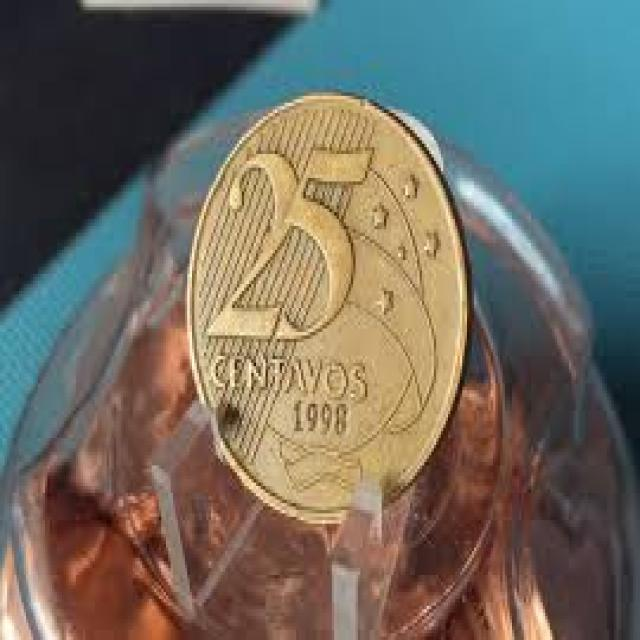25 cent: (194, 89, 474, 522)
